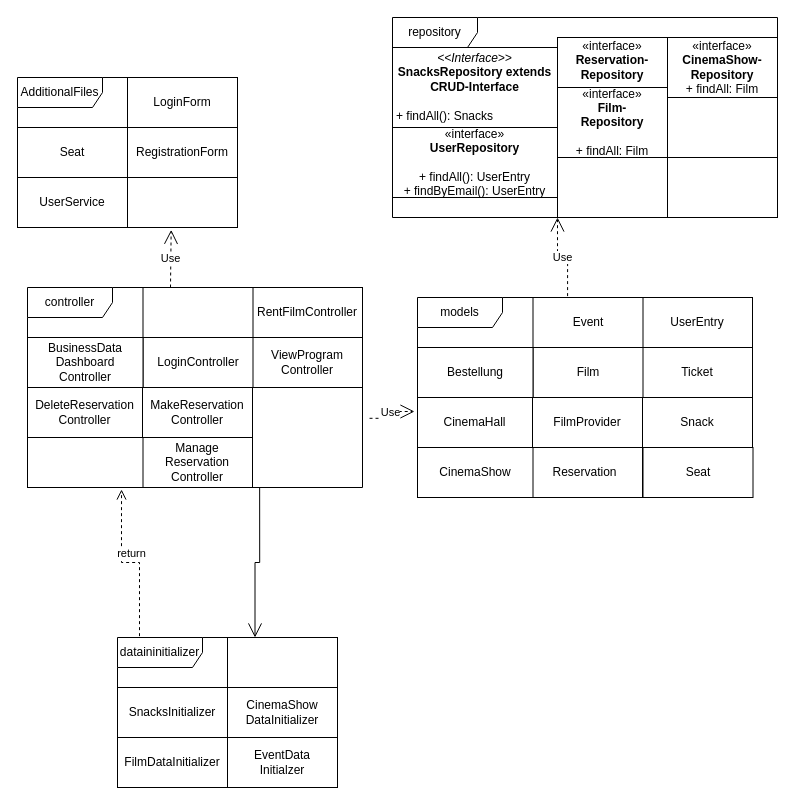
Image size: 795x805. Some labels were removed from this diagram. Here are the shapes that lost their labels. From the top down, the centre of each, then its label:
point (722, 127): «interface» Snacks- Repository + findAll: Film
point (182, 202): UserRole
point (612, 187): «interface» Event- Repository + findAll: Film
point (722, 187): «interface» CinemaHall- Repository + findAll: Film
point (197, 312): IndexController
point (84, 462): EvenAdministration Controller
point (282, 662): CinemaHall DataInitializer
